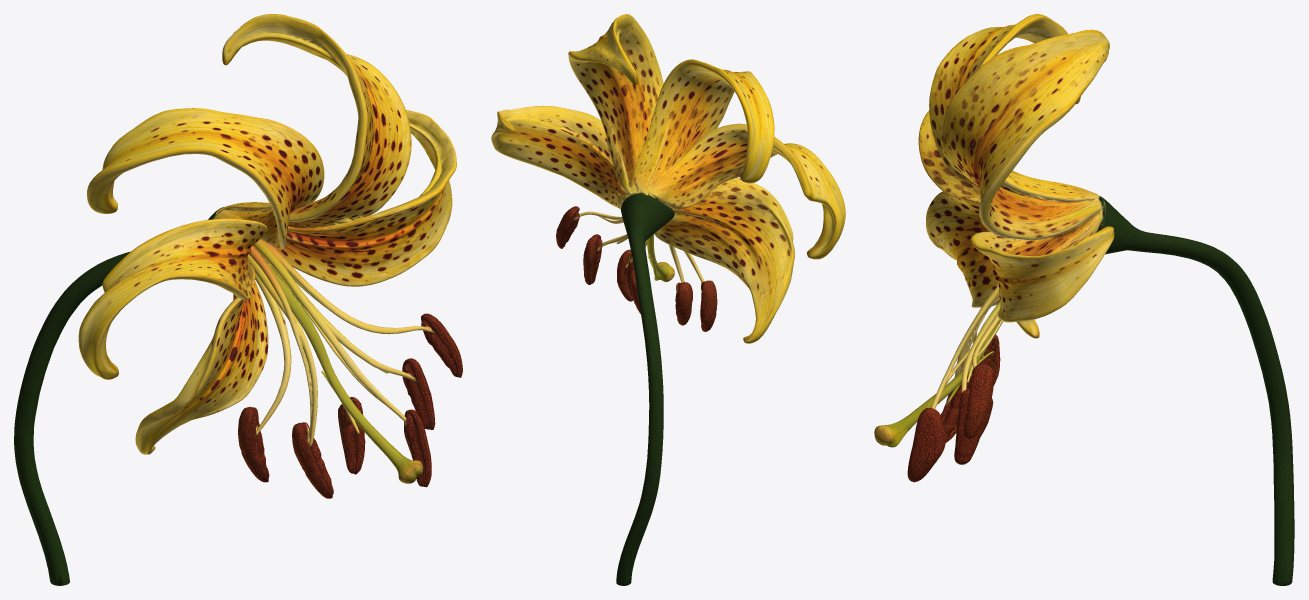
File: golden-yellow-tiger-lily.glb
3 views of the same model, side by side, from view 1: azimuth 30°, elevation 25°; view 2: azimuth 150°, elevation 25°; view 3: azimuth 270°, elevation 25° (orthographic). The views are drawn at different scales.
Size of the model in its own units: 1.32 by 1.9 by 1.19.
Materials: 1 (1 with a texture image).
